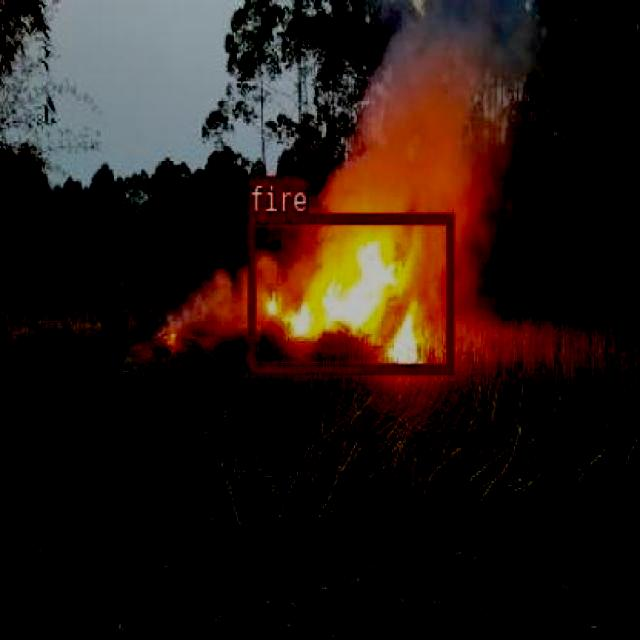fire: (248, 212, 452, 372)
